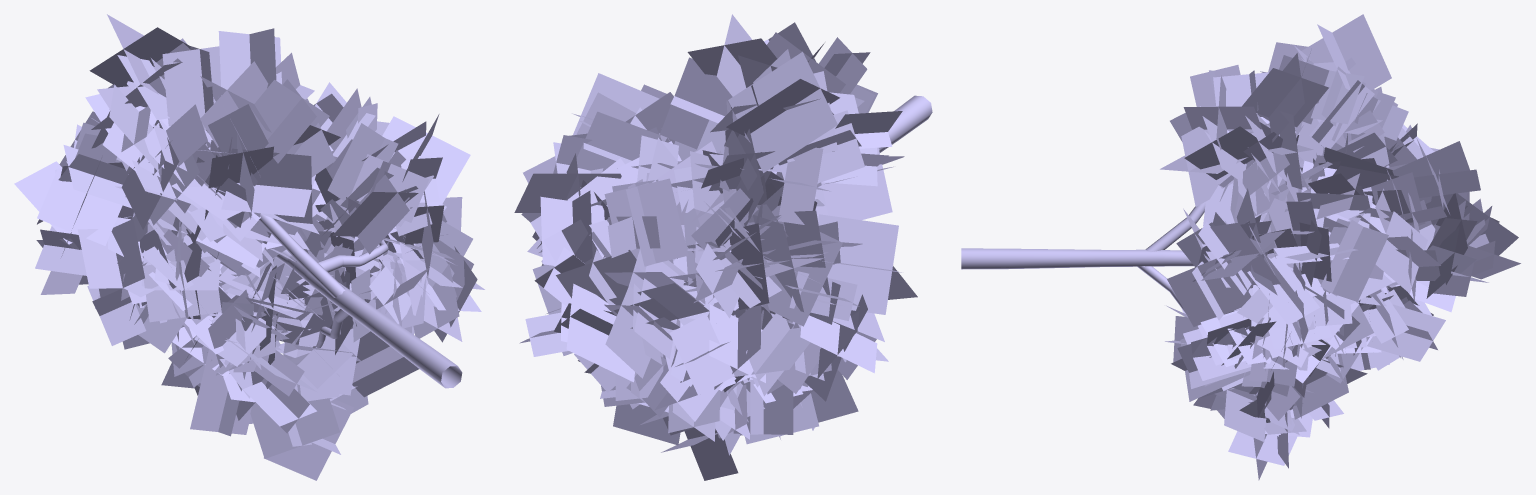
Rendered from LOD_GreenTree.FBX.
The picture shows the model from 3 angles, left to right: view 1: azimuth 30°, elevation 25°; view 2: azimuth 150°, elevation 25°; view 3: azimuth 270°, elevation 25°; orthographic projection. The views are drawn at different scales.
Parts seen in each view (by area): view 1: GreenTree_LOD0; view 2: GreenTree_LOD0; view 3: GreenTree_LOD0.
Boxes of the visible parts, x1,y1,x2,y2 form: GreenTree_LOD0: [14, 14, 484, 480]; GreenTree_LOD0: [514, 14, 932, 480]; GreenTree_LOD0: [961, 14, 1520, 480].
Size of the model in its own units: 651 by 941 by 747.
